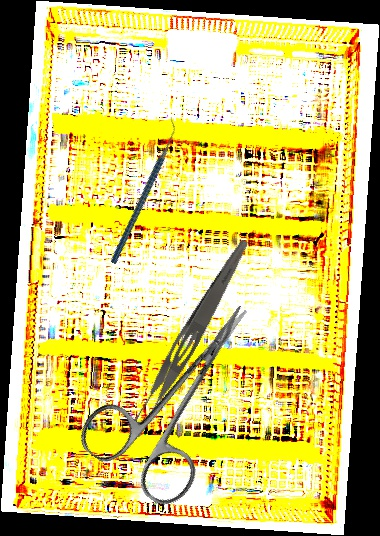Chopper: (69, 116, 217, 265)
Dressing Forceps: (123, 233, 254, 441)
Iris Scissors: (71, 273, 297, 515)
